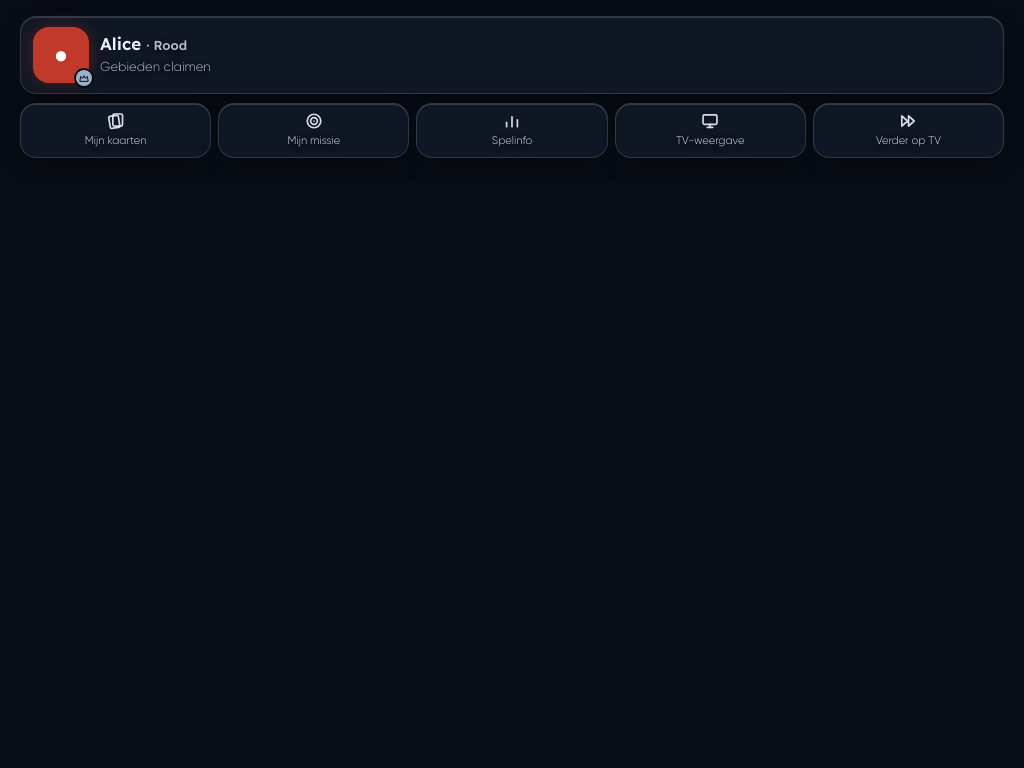
Scenario: PhonePlayerHeader › opent het "Mijn kaarten"-paneel via de actieknop
Click the button "Mijn kaarten" at (116, 130), box [21,104,210,157]
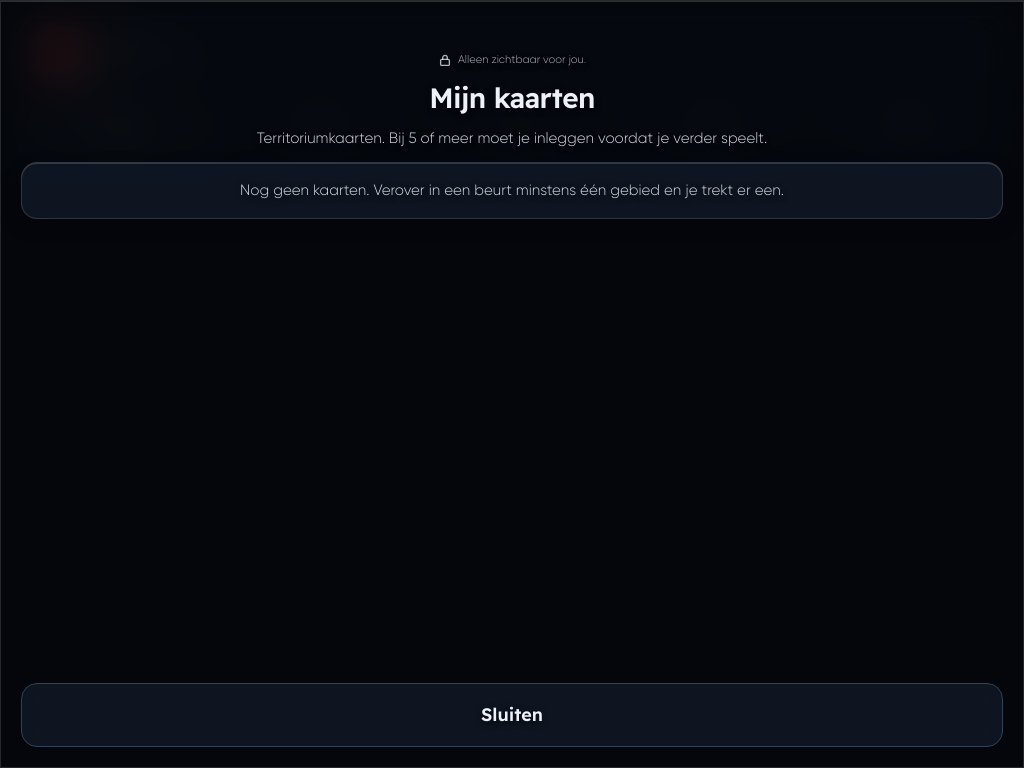
expect the text "Nog geen kaarten. Verover in een beurt minstens één gebied en je trekt er een." is shown: met, box [21,162,1003,219]
